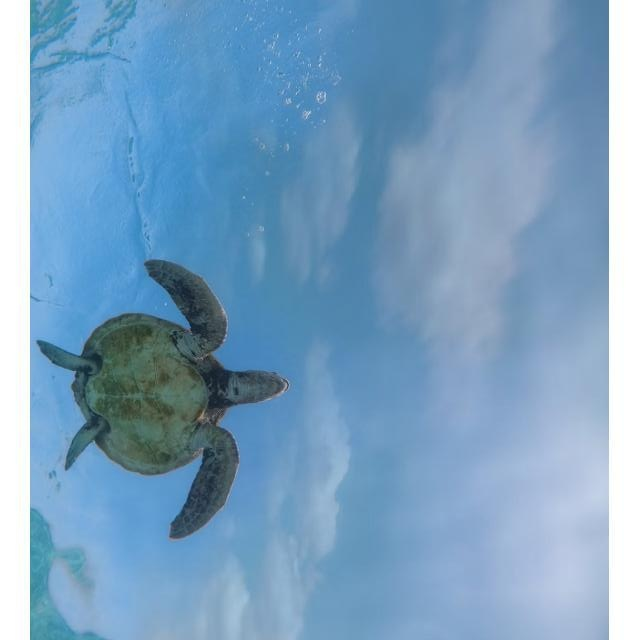turtle: (36, 259, 290, 541)
